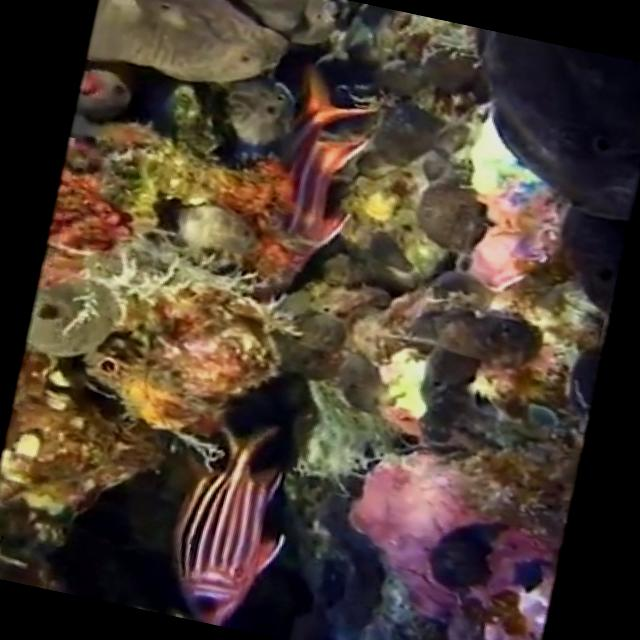Asker Baligi: (153, 405, 310, 635)
